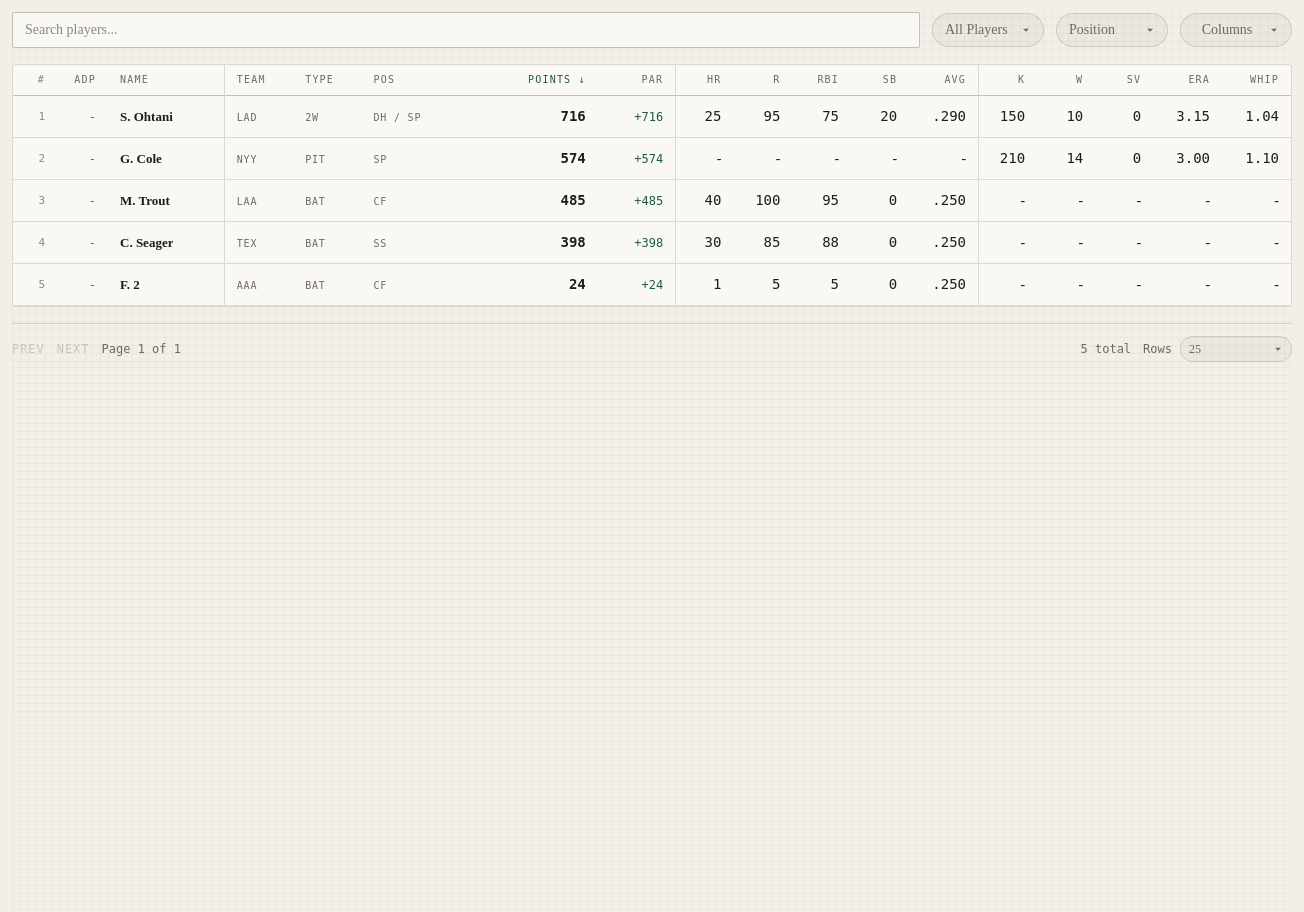
Leaderboard › switches player type without showing batter-only rows
Click the button with aria-label "Player type" at (988, 30), box [932,13,1044,47]
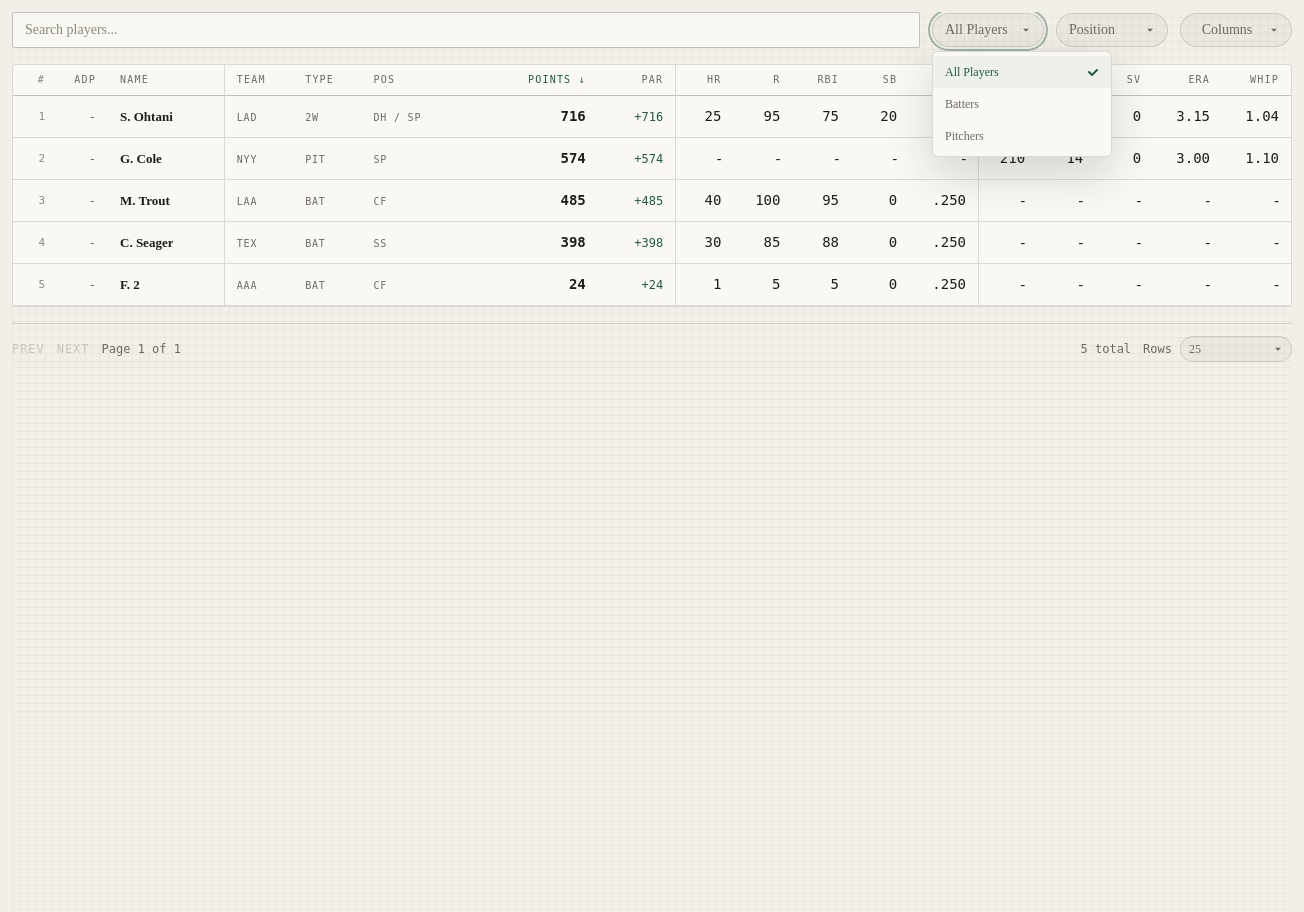
Click the button "Pitchers" at (1022, 136), box [933,120,1111,152]
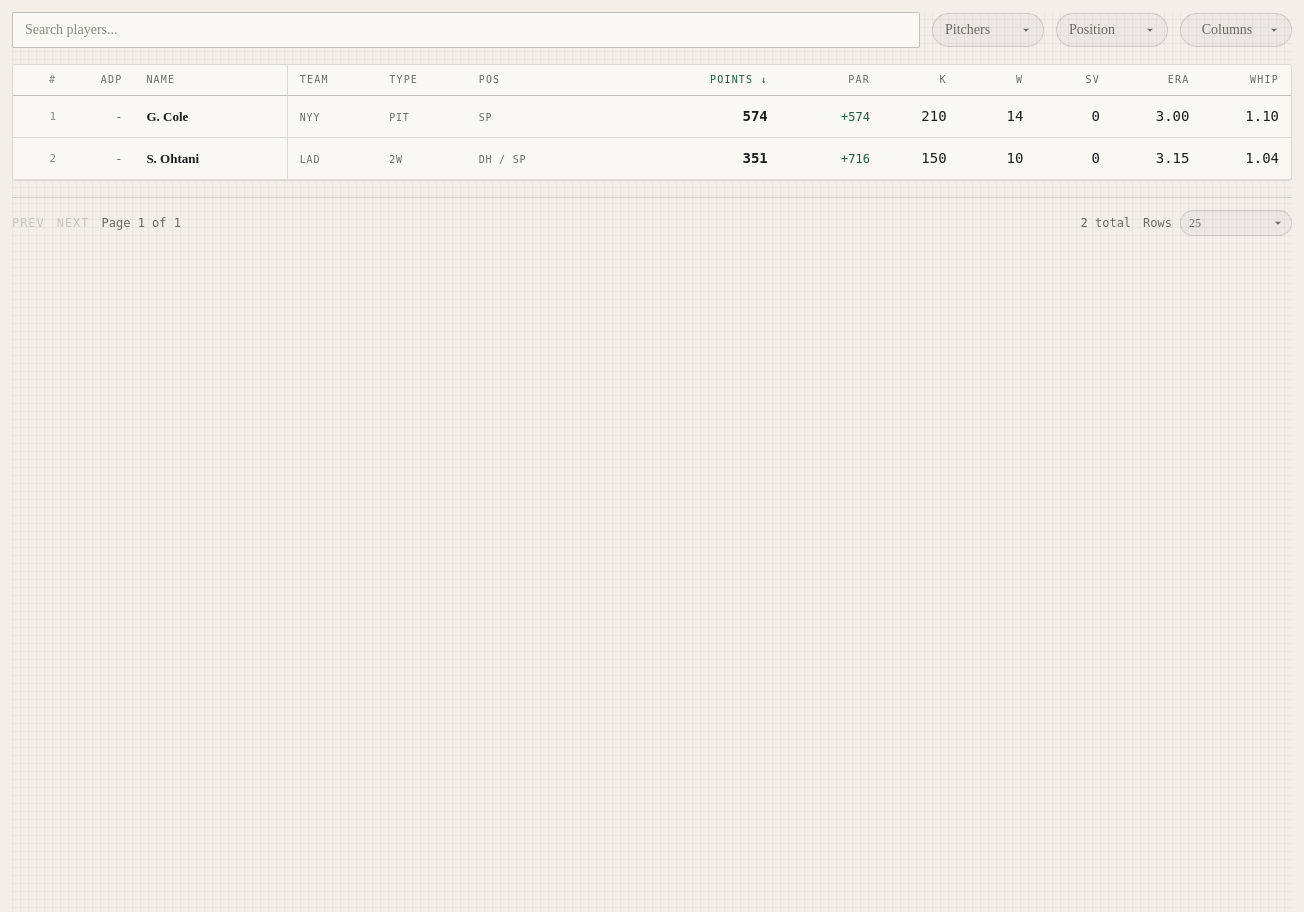
Check: the text "G. Cole" is shown, box [146,108,188,126]
Check: the text "AVG" is gone
